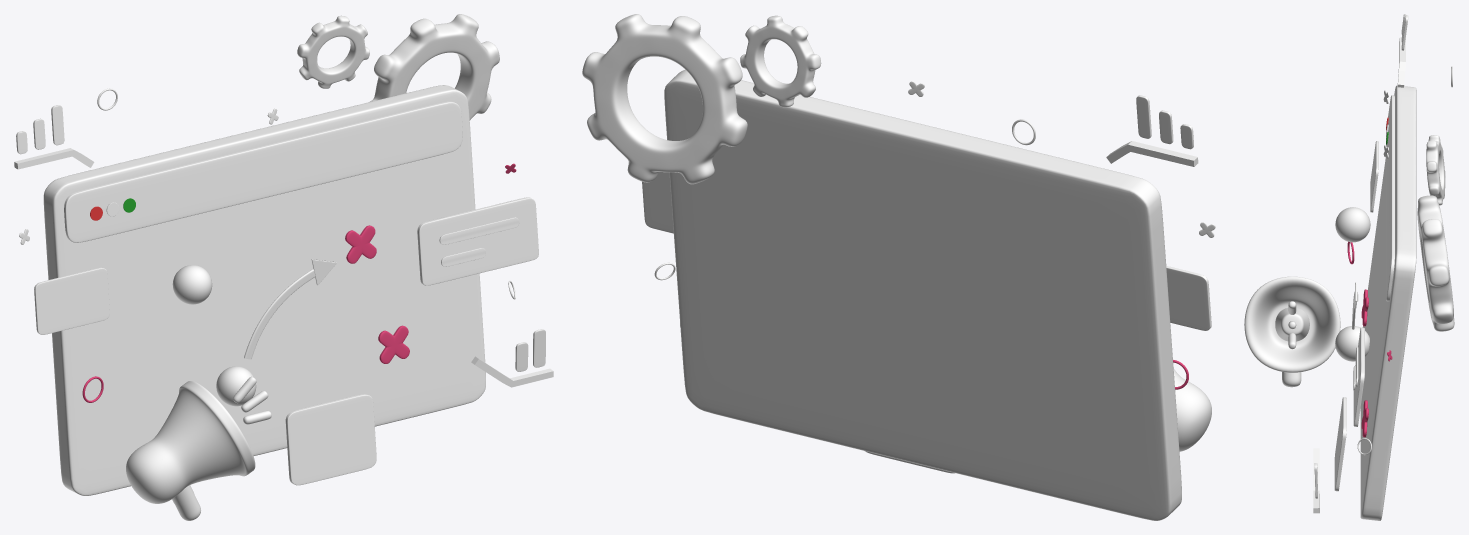
File: marketing-strategy-3d-animated-icon-1047016638230.glb
The picture shows the model from 3 angles, left to right: view 1: azimuth 30°, elevation 25°; view 2: azimuth 150°, elevation 25°; view 3: azimuth 270°, elevation 25°; orthographic projection. The views are drawn at different scales.
Parts seen in each view (by area): view 1: Cube, Cube.001, Megaphone, Cube.005, Frame, Gear.001, Cube.009, Gear.002, Cylinder.006, Sphere, Sphere.001, Frame.001 (+4 smaller); view 2: Cube, Gear.001, Gear.002, Cube.009, Megaphone, Frame, Cube.002; view 3: Cube, Megaphone, Gear.001, Cube.001, Gear.002, Sphere, Sphere.001, Cube.005, Frame, Cube.009, Cube.010, Cube.002.
Part boxes in pixels (x1,y1,x2,y2): Cube: (43,85,485,495); Cube.001: (64,101,462,242); Megaphone: (126,381,255,520); Cube.005: (285,394,376,485); Frame: (417,197,538,285); Gear.001: (370,14,499,120); Cube.009: (34,267,109,334); Gear.002: (297,15,369,88); Cylinder.006: (244,259,336,359); Sphere: (172,265,212,304); Sphere.001: (216,366,256,406); Frame.001: (439,217,519,244); Cube: (664,69,1181,520); Gear.001: (582,14,747,184); Gear.002: (740,15,821,107); Cube.009: (1166,266,1211,330); Megaphone: (1173,368,1211,451); Frame: (642,172,673,233); Cube.002: (1106,141,1198,166); Cube: (1360,85,1416,520); Megaphone: (1244,276,1340,387); Gear.001: (1417,195,1454,331); Cube.001: (1386,95,1394,301); Gear.002: (1426,135,1445,205); Sphere: (1335,207,1370,242); Sphere.001: (1335,326,1369,361); Cube.005: (1334,397,1346,491); Frame: (1353,327,1364,426); Cube.009: (1370,141,1378,212); Cube.010: (1313,448,1319,513); Cube.002: (1397,37,1405,87).
Size of the model in its own units: 6.64 by 5.07 by 2.67.
